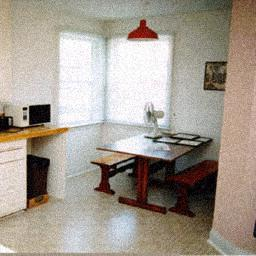Bote de Basura: (27, 156, 49, 209)
